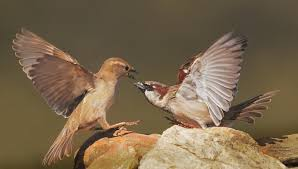home_sparrow: (6, 25, 139, 166), (134, 30, 280, 129)
